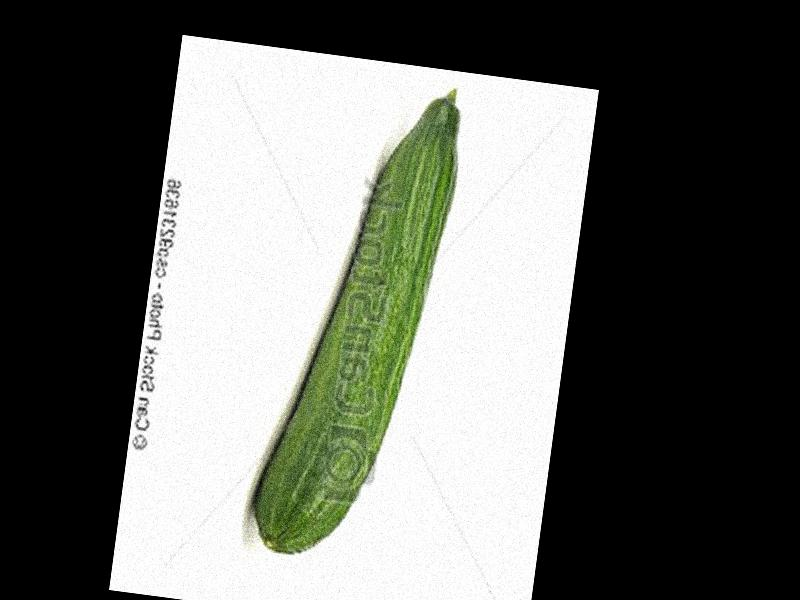Cucumber: (248, 71, 465, 566)
